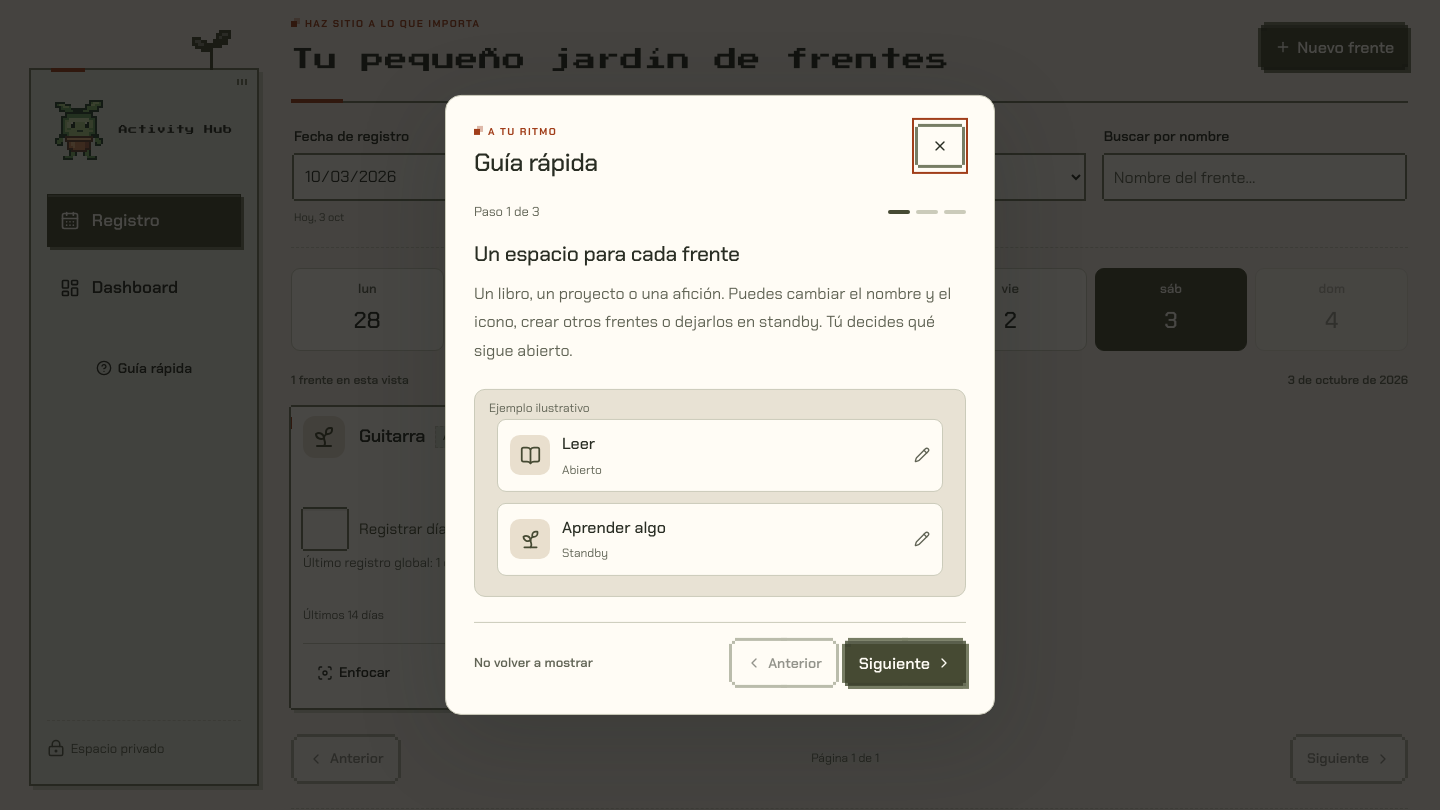
Guía inicial de Jardín › Fuera guarda el descarte; la guía manual se cierra sin volver a escribir
The image size is (1440, 810).
Click the element with class "dialog-overlay": (86, 405) x1=0 y1=0 x2=1439 y2=809
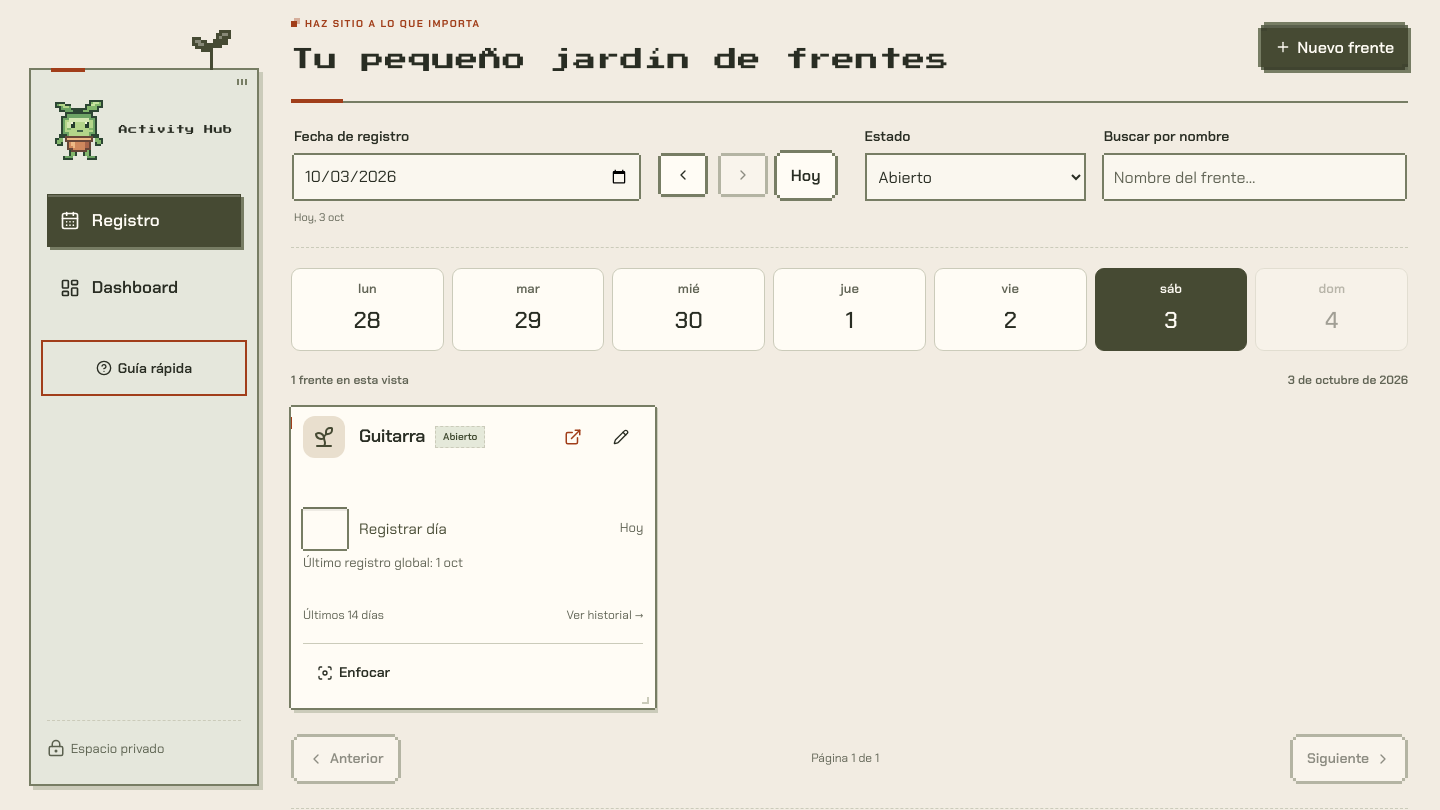
Result: the dialog is gone
Click the button "Guía rápida": (144, 368) x1=47 y1=346 x2=241 y2=390
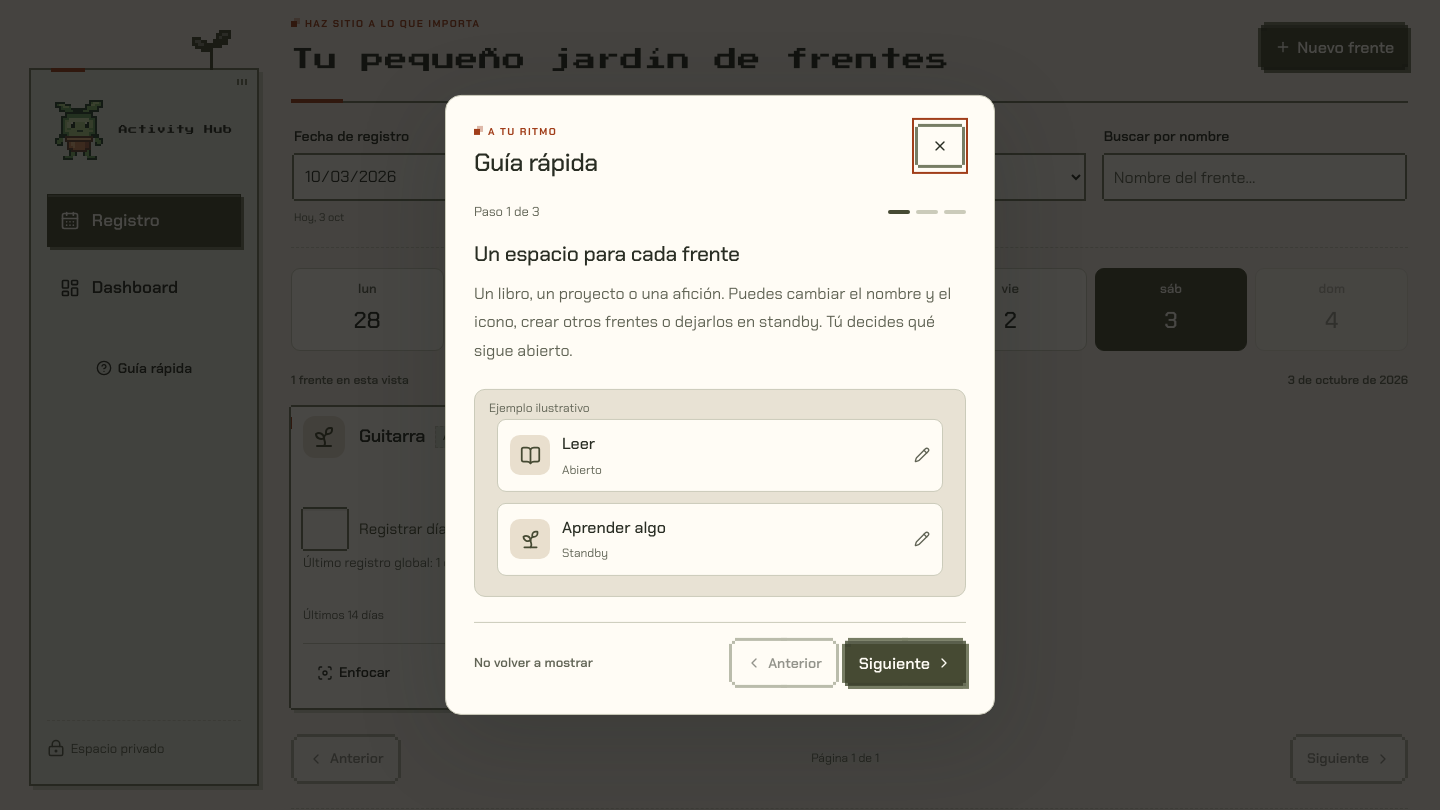
Result: the dialog "Guía rápida" is shown at x1=445 y1=95 x2=995 y2=715
Press Escape
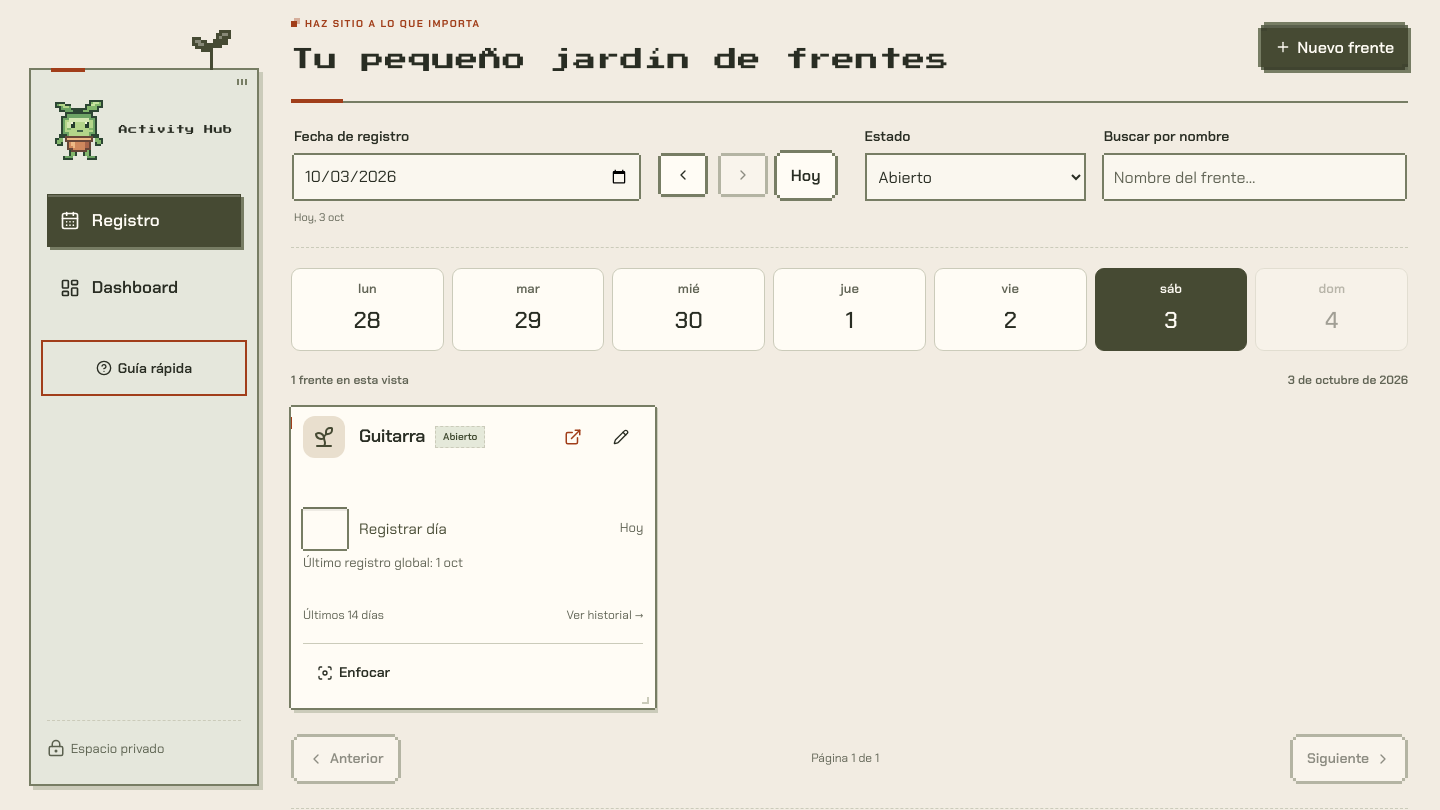
Result: the dialog is gone
